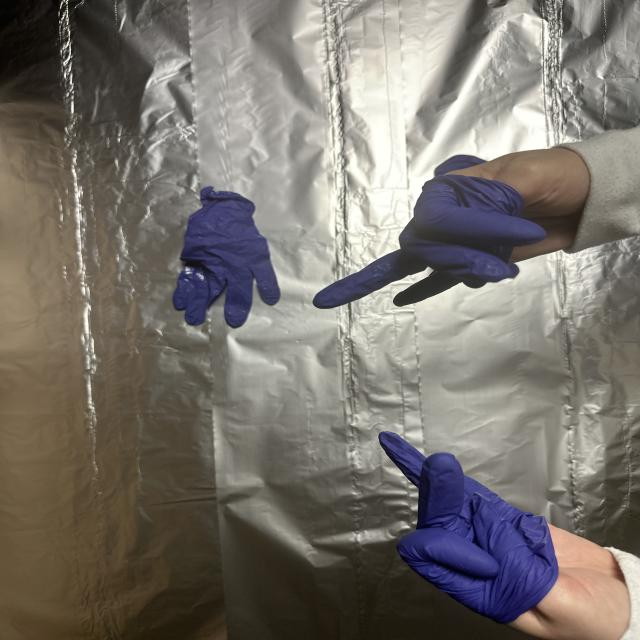glove_partial: (373, 428, 637, 640), (310, 147, 595, 312)
